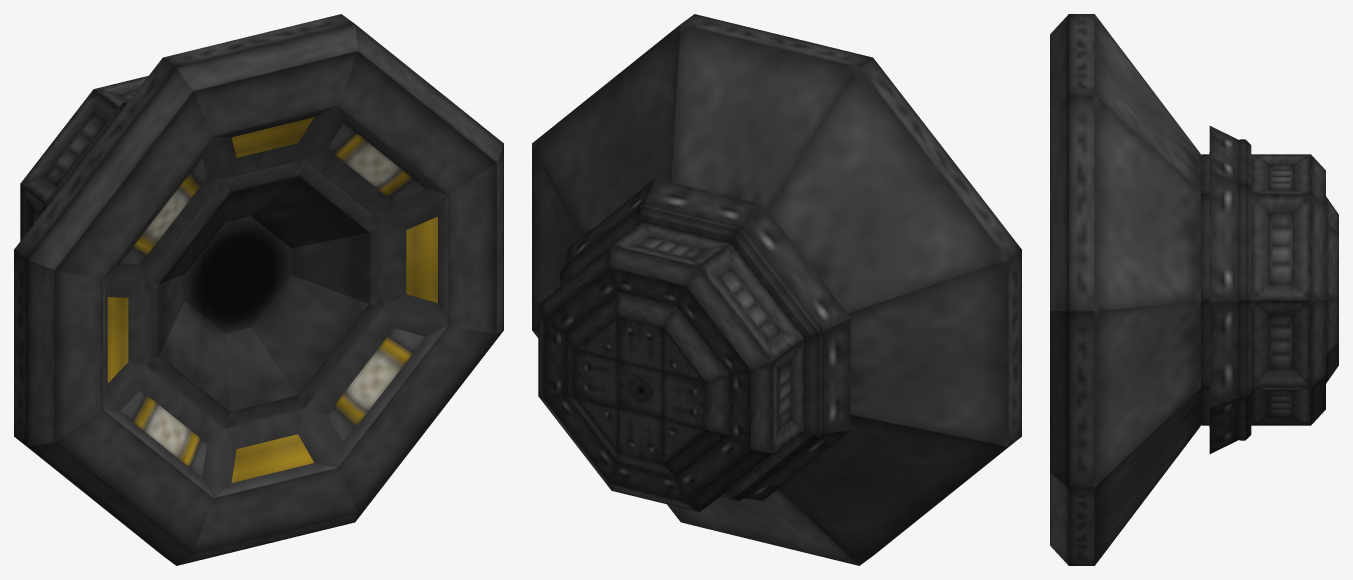
File: inputWirelessEssentiaInterface.obj
3 renders of one model, left to right at view 1: azimuth 30°, elevation 25°; view 2: azimuth 150°, elevation 25°; view 3: azimuth 270°, elevation 25°, orthographic. The views are drawn at different scales.
Visible parts, largest first — view 1: Input; view 2: Input; view 3: Input.
Part boxes in pixels (x1,y1,x2,y2): Input: (14,14,503,565); Input: (532,14,1021,565); Input: (1050,14,1338,565).
Bounding box in the file's own units: 0.9955 × 0.9955 × 0.5548.
